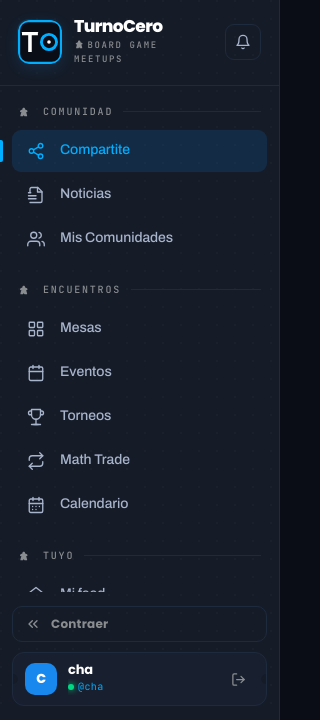
<Sidebar> › logout flow: clicking "No" cancels the confirmation
This screenshot has width=320, height=720.
Click the button titled "Cerrar sesión" at (238, 679), box x1=222 y1=663 x2=254 y2=695
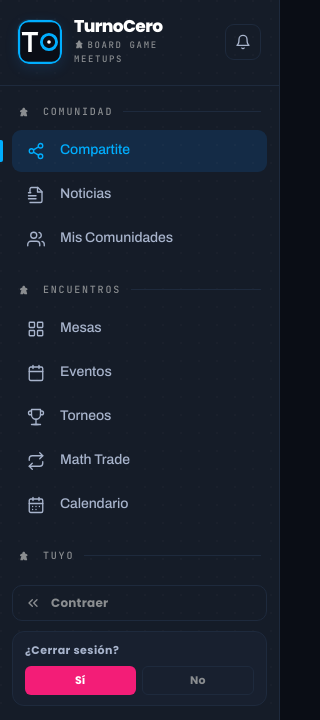
Expected: the text "¿Cerrar sesión?" is shown, x1=25 y1=642 x2=119 y2=658
Click the button "No" at (198, 680), box x1=142 y1=666 x2=254 y2=695
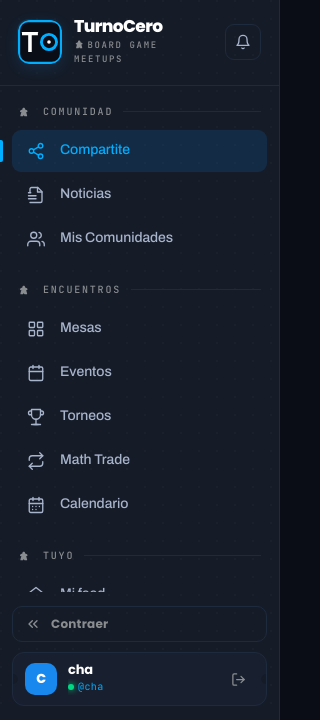
Expected: the text "¿Cerrar sesión?" is gone
